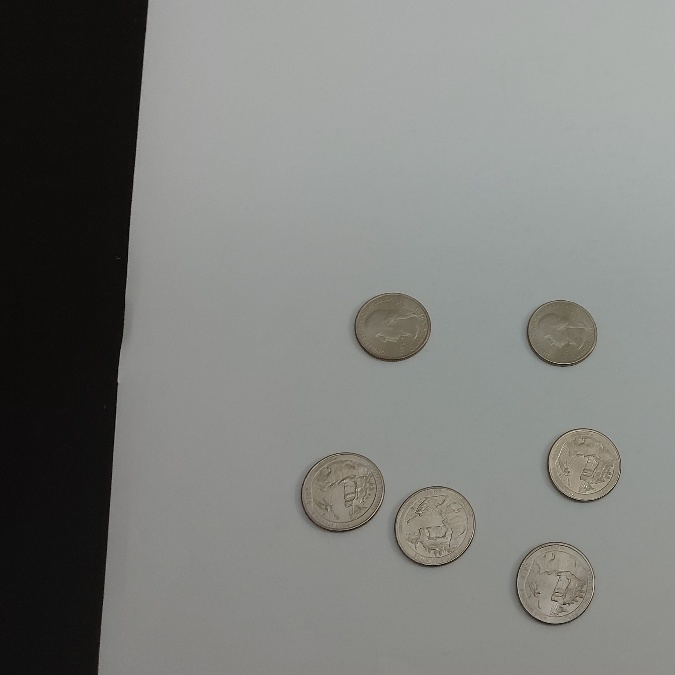coin_quarter: (391, 481, 480, 570), (295, 450, 390, 533), (515, 535, 597, 626), (546, 425, 621, 505), (526, 293, 599, 366), (355, 287, 428, 359)
